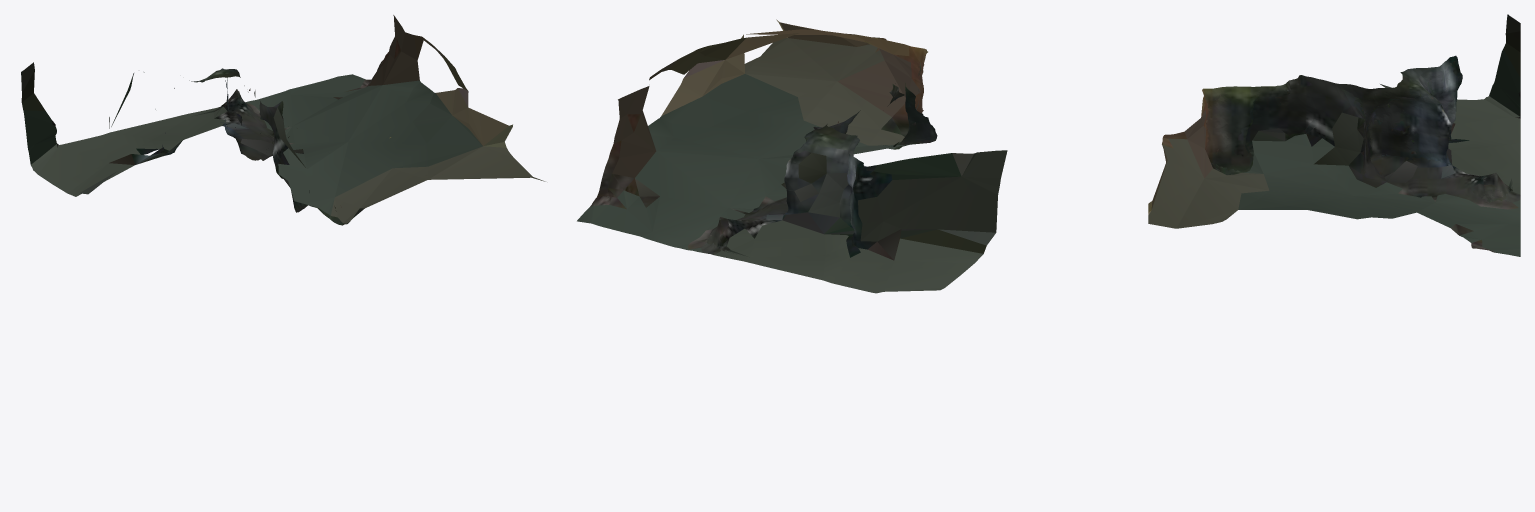
The picture shows the model from 3 angles, left to right: view 1: azimuth 30°, elevation 25°; view 2: azimuth 150°, elevation 25°; view 3: azimuth 270°, elevation 25°; orthographic projection. The views are drawn at different scales.
Size of the model in its own units: 1.97 by 1.9 by 1.97.
Materials: 1 (1 with a texture image).
